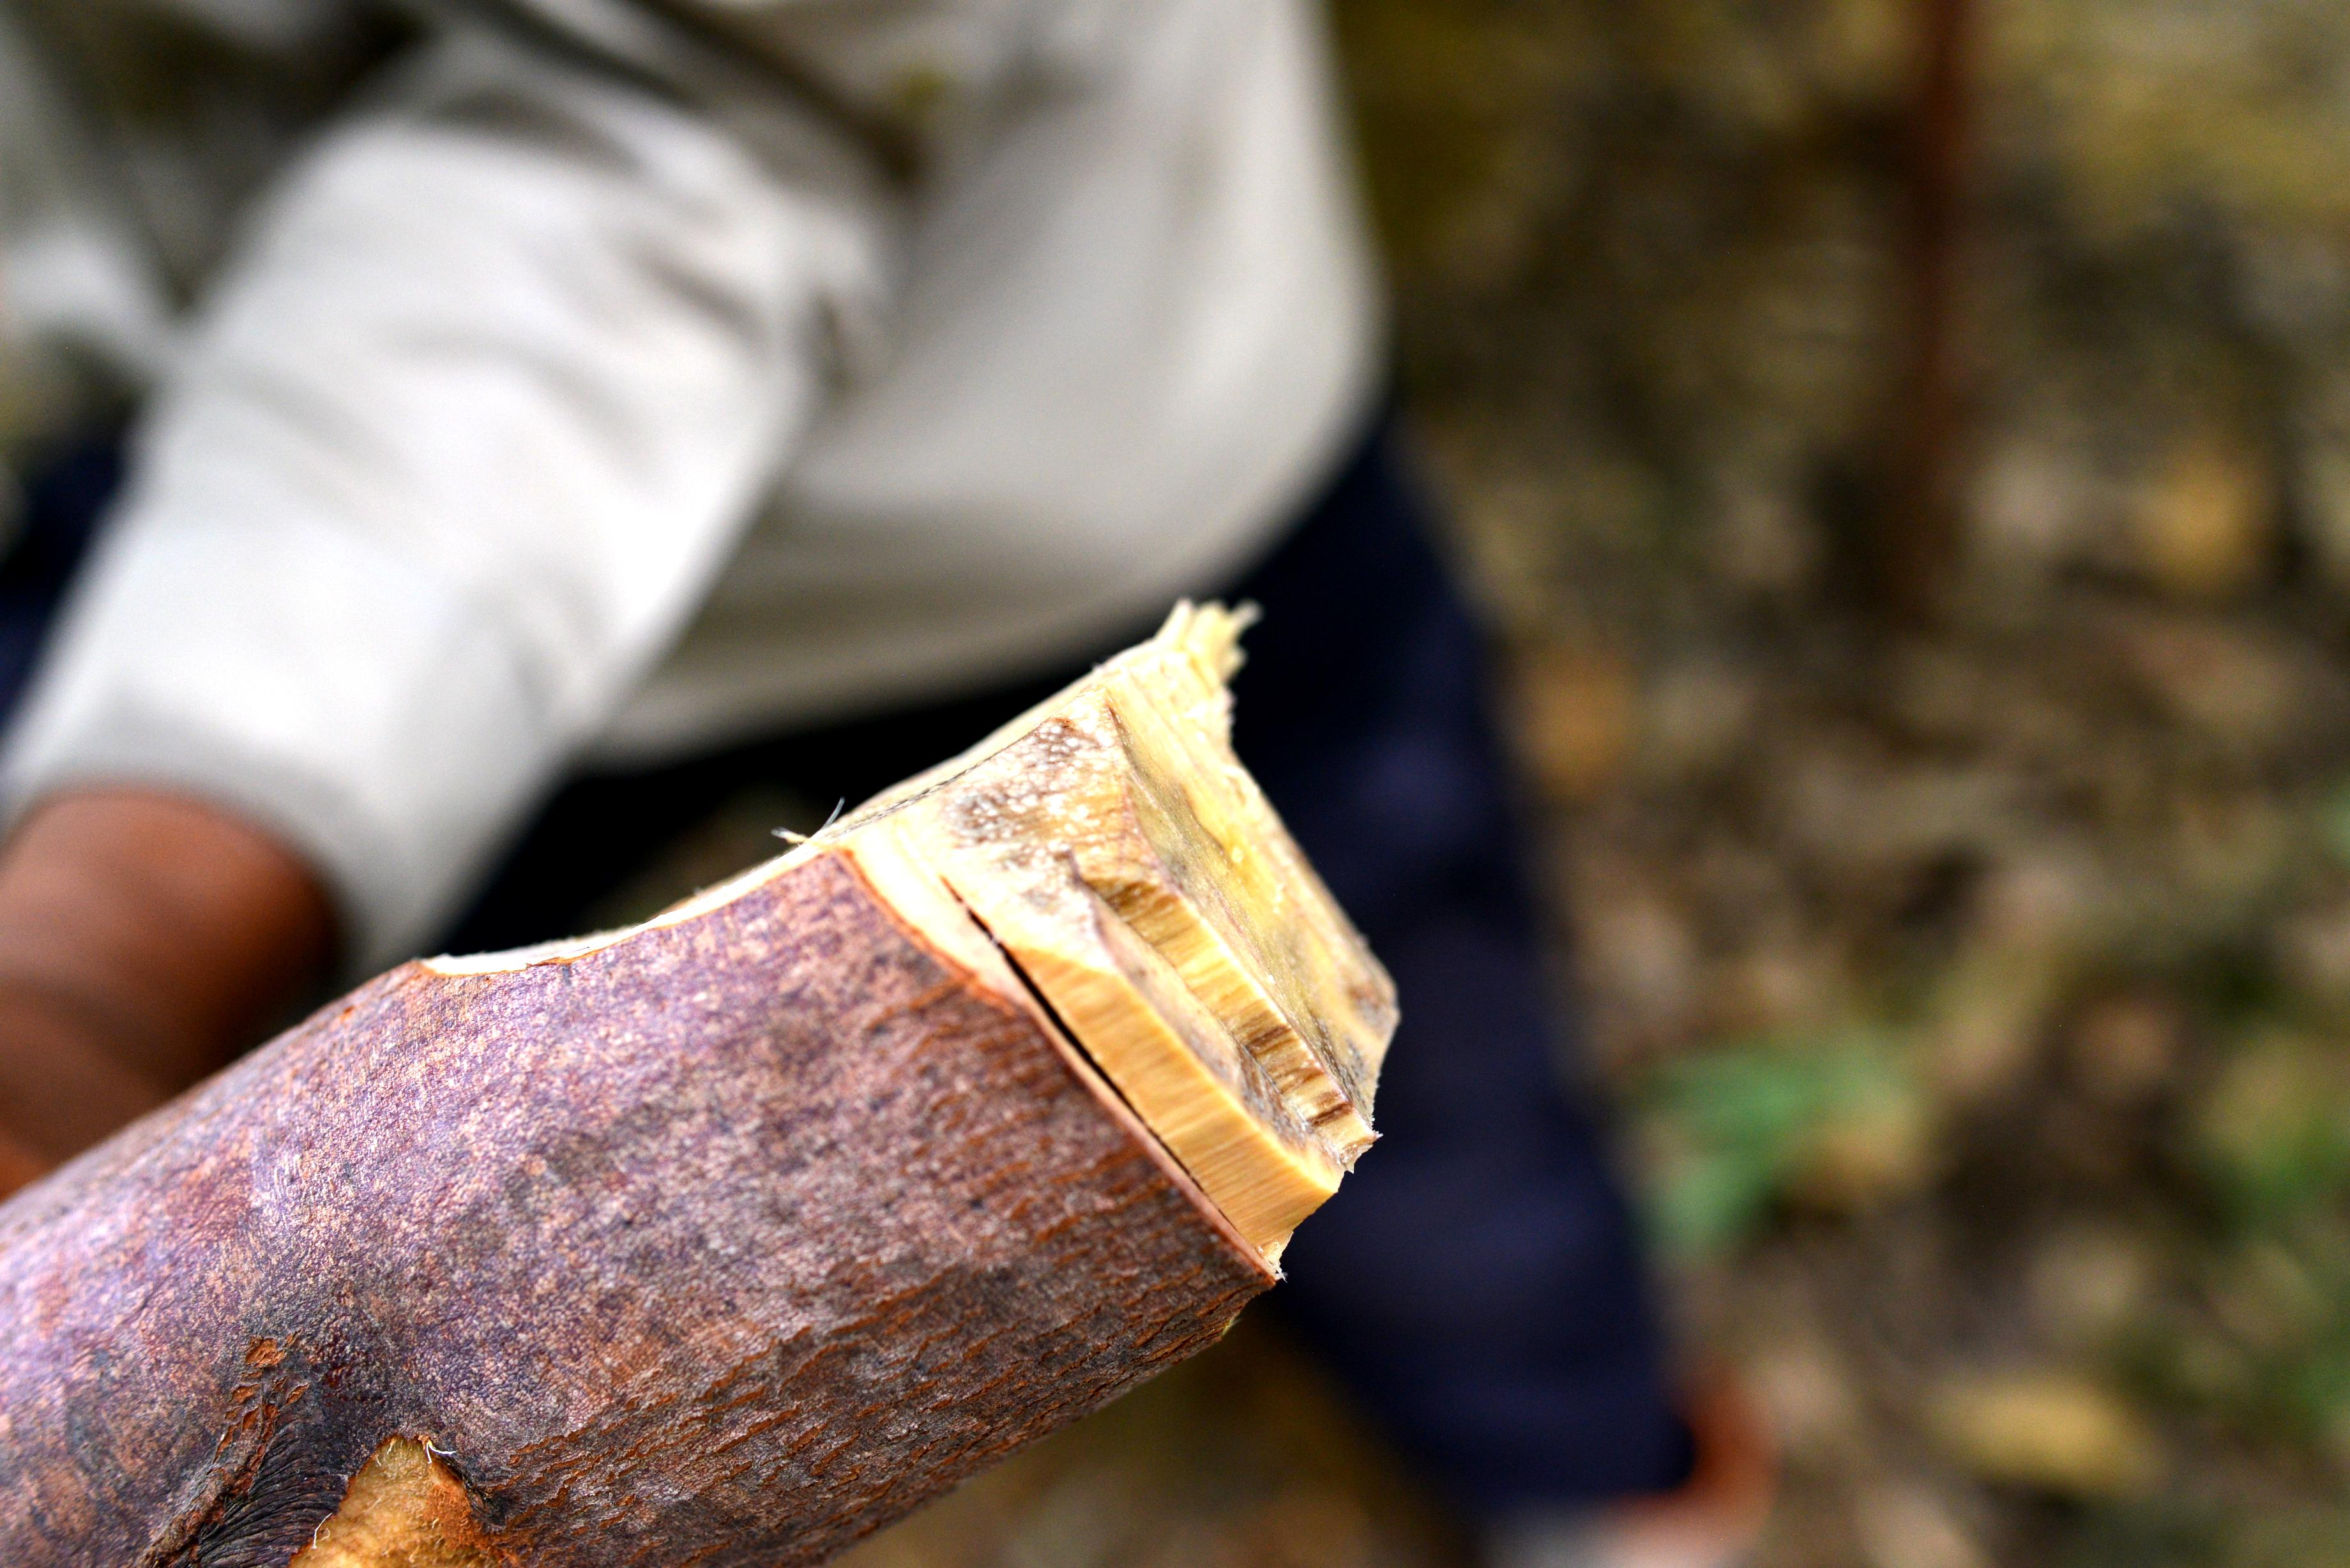Ralstonia: (901, 703, 1116, 931), (1230, 920, 1404, 1202)
